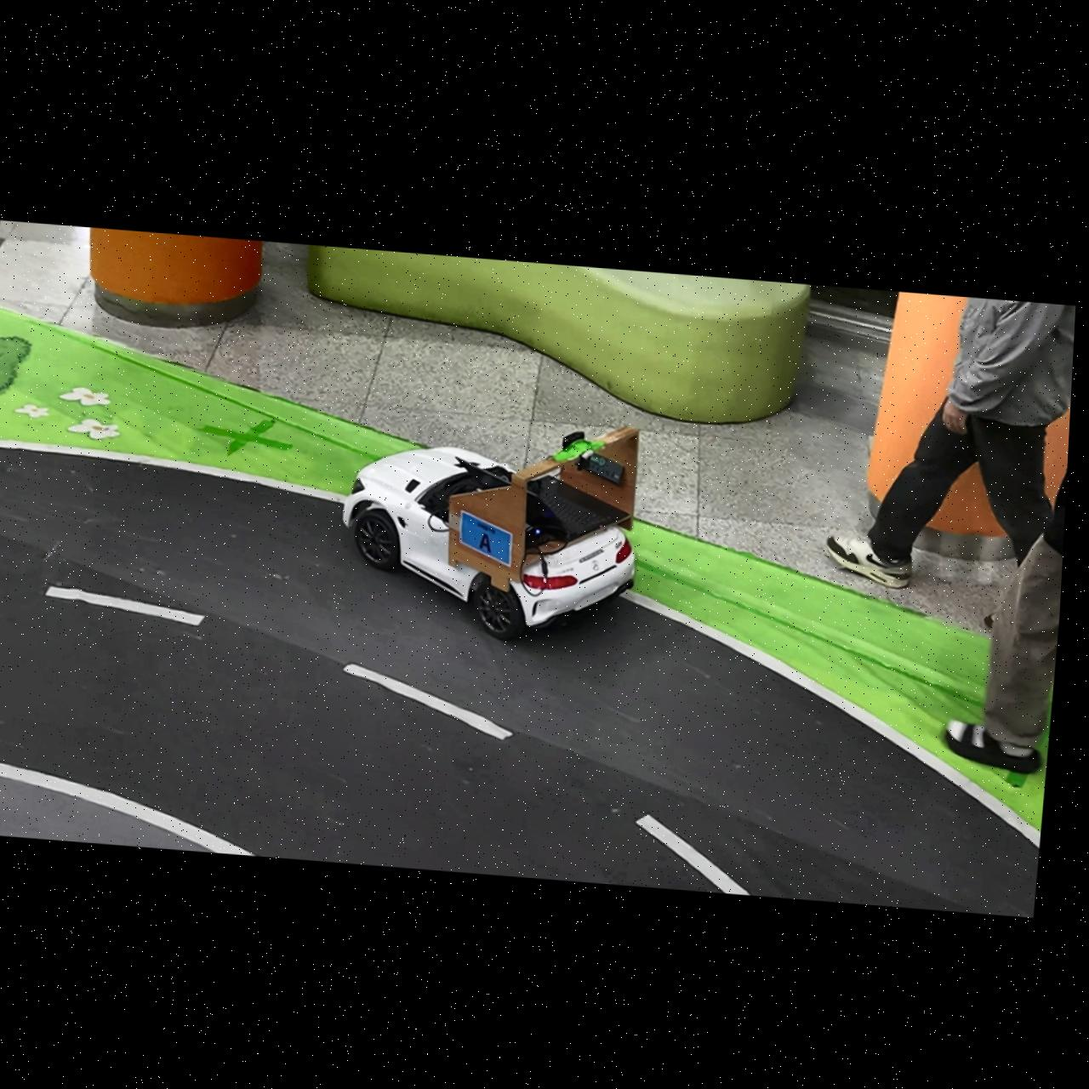broken_line: (342, 663, 513, 740), (635, 814, 750, 894), (44, 585, 205, 625)
